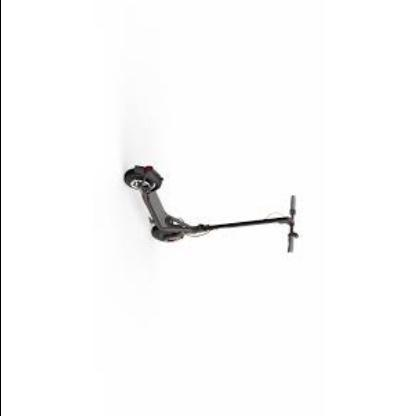bike: (123, 165, 300, 254)
